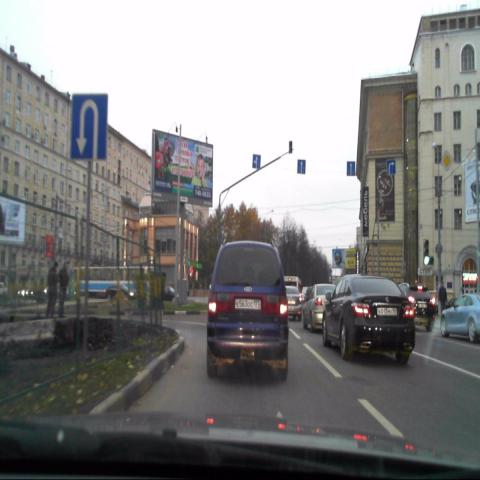6_3_1: (70, 93, 108, 162)
